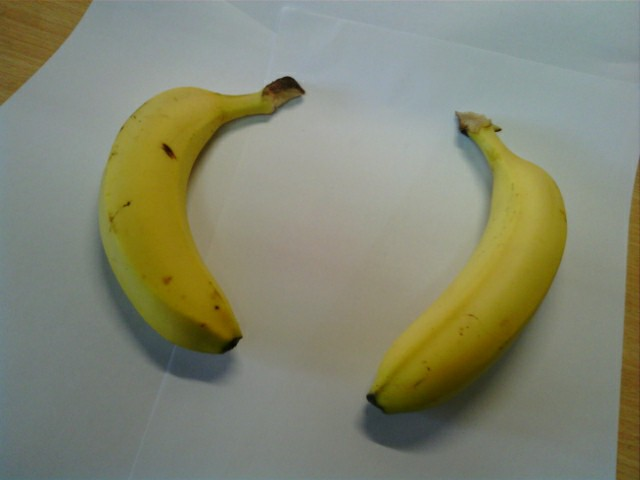fresh_banana: (364, 112, 568, 416)
normal_banana: (98, 83, 250, 353)
